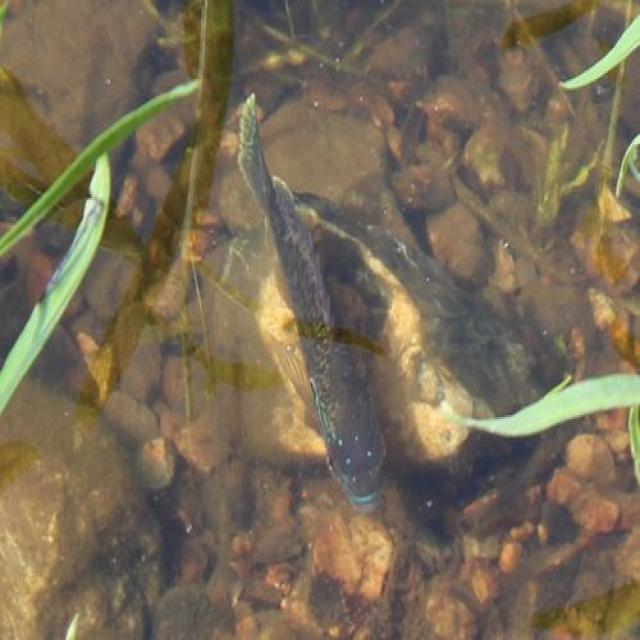Gunes Levregi: (236, 88, 389, 516)
